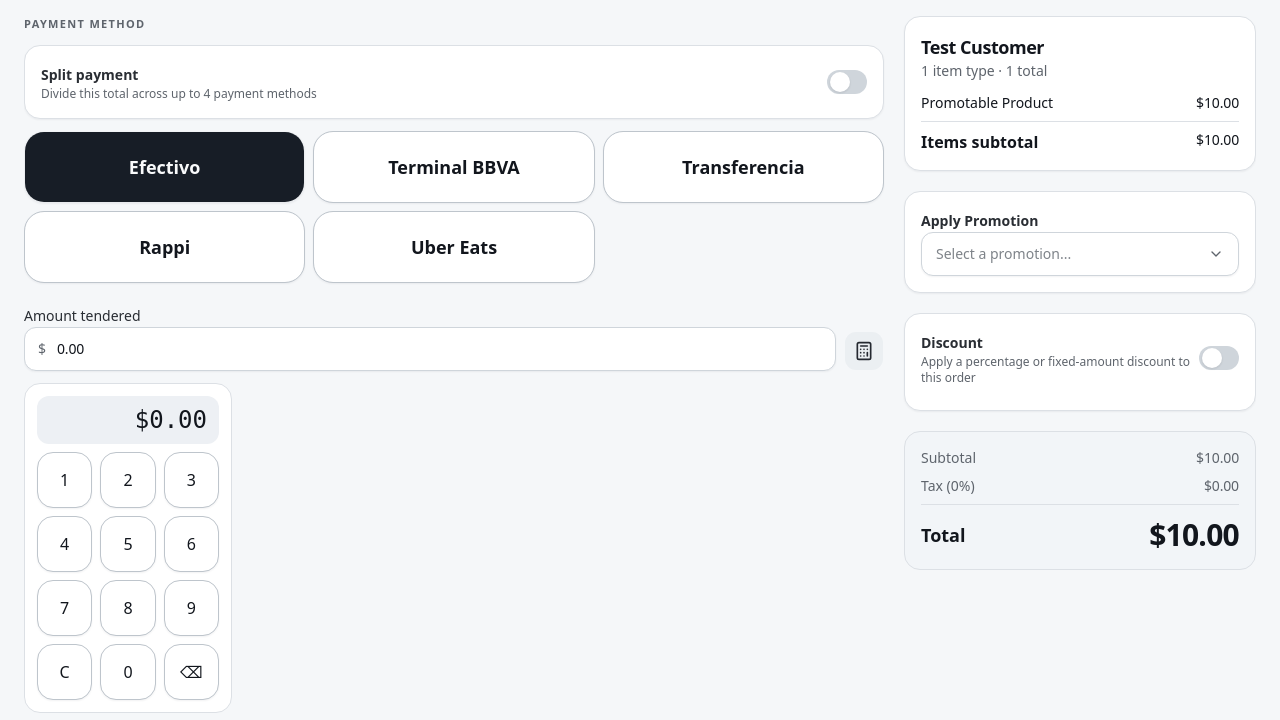
PaymentForm — Apply Promotion selector › selecting an active promotion discounts the matching line without opening a PIN dialog
Expected: the element with test id "apply-promotion-section" is shown, [904,191,1256,293]
What coordinates should you click on to do the following:
click the dropdown with test id "apply-promotion-select"
I would click on:
 (1004, 254)
Its box is [921,232,1239,276].
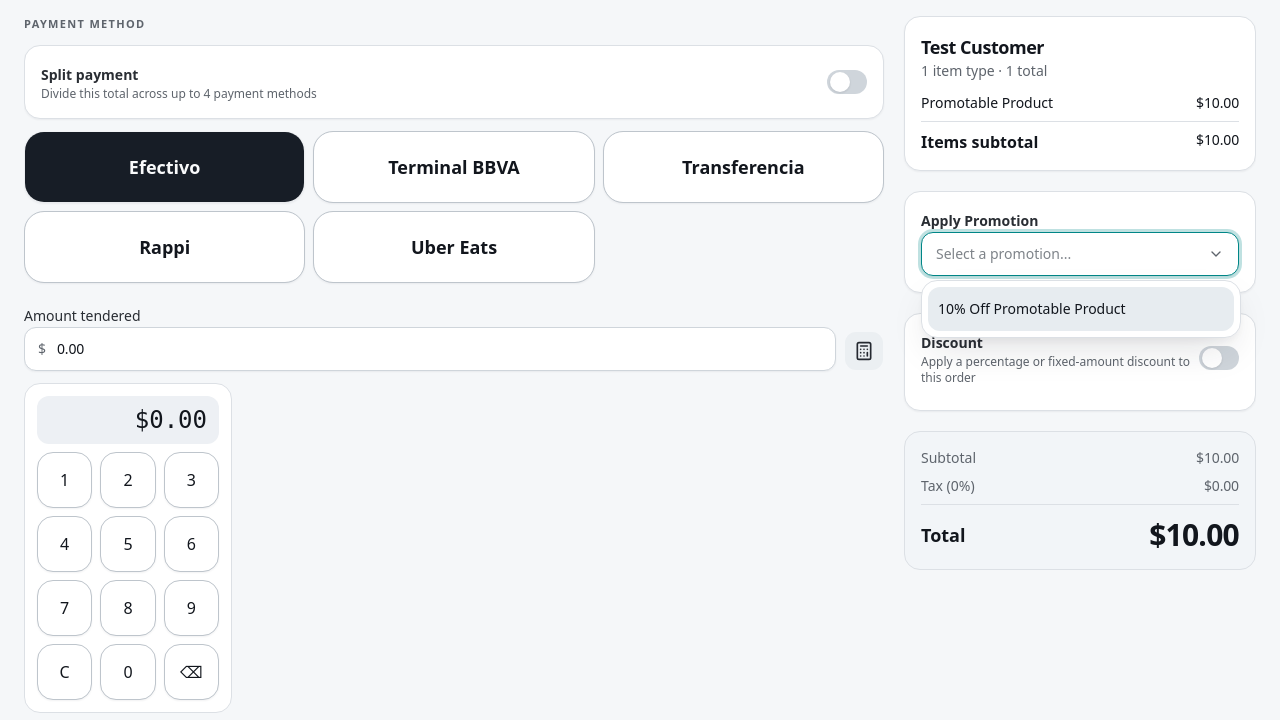
What coordinates should you click on to do the following:
click the option "10% Off Promotable Product"
I would click on:
 (1081, 309)
Its box is [928,287,1234,331].
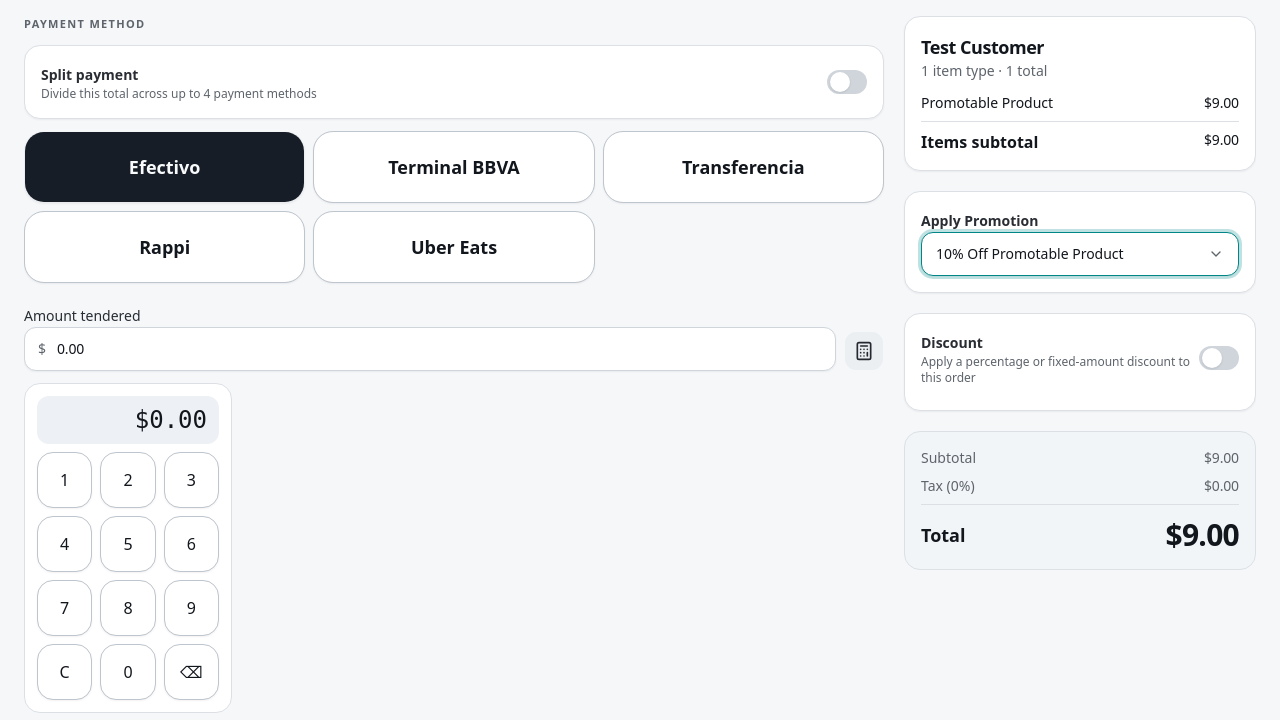
Expected: the element with test id "total-row" shows "9.00", [1166,514,1239,555]
